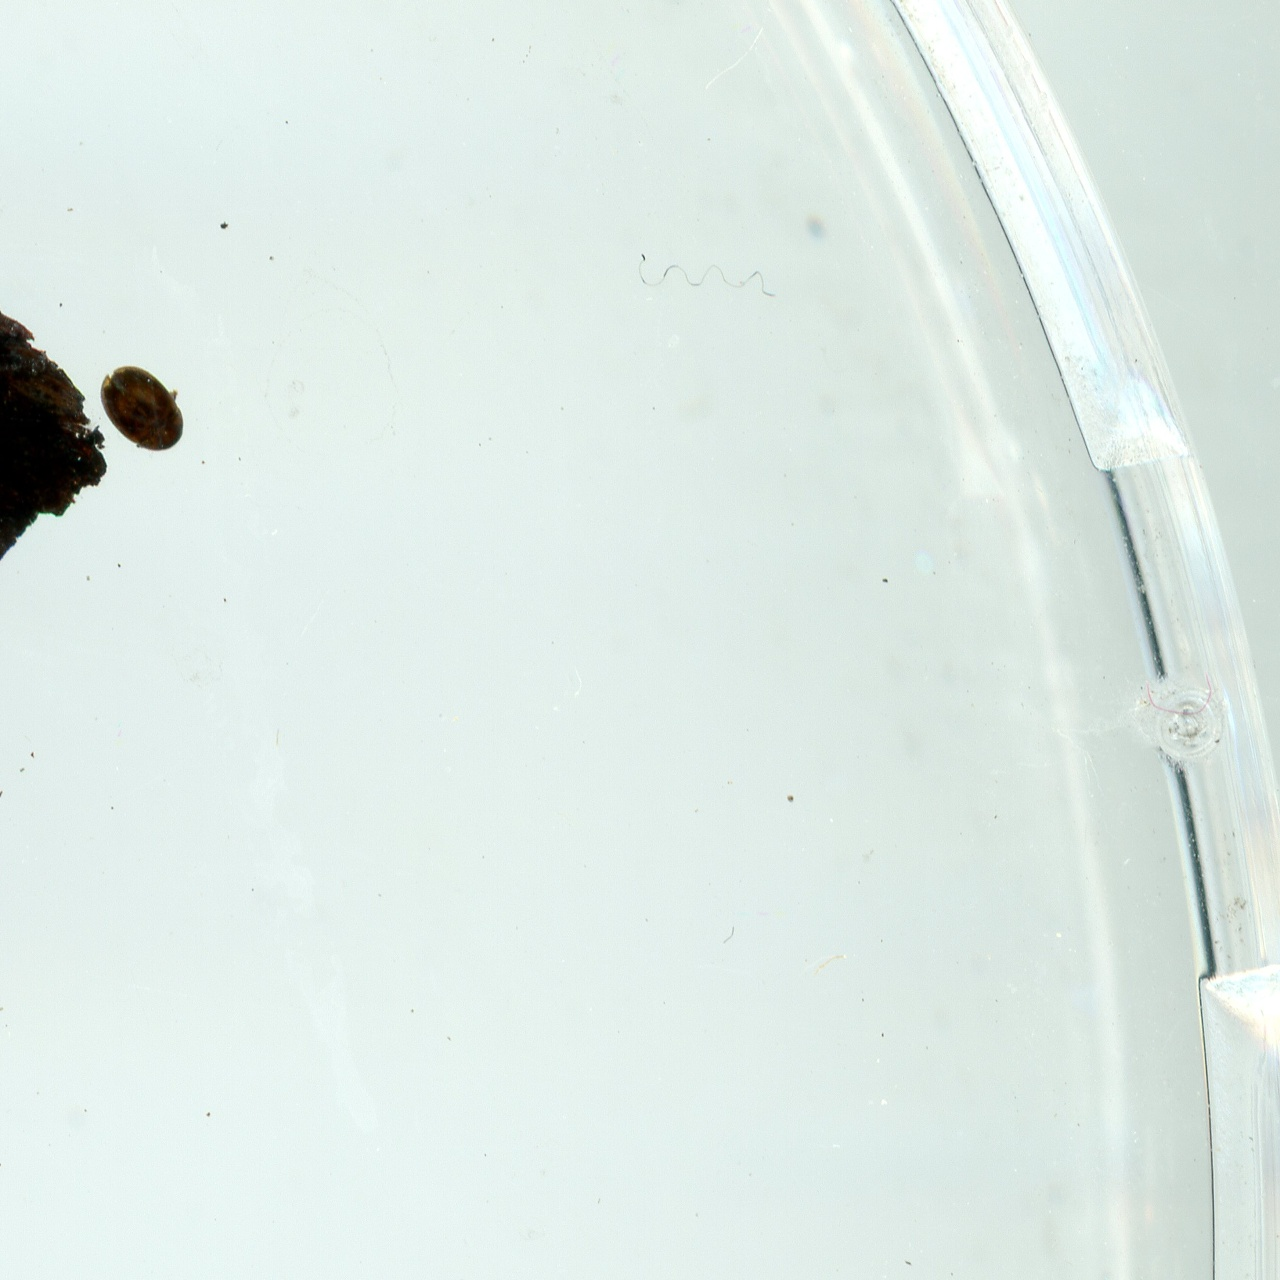arthropod: (96, 364, 189, 453)
